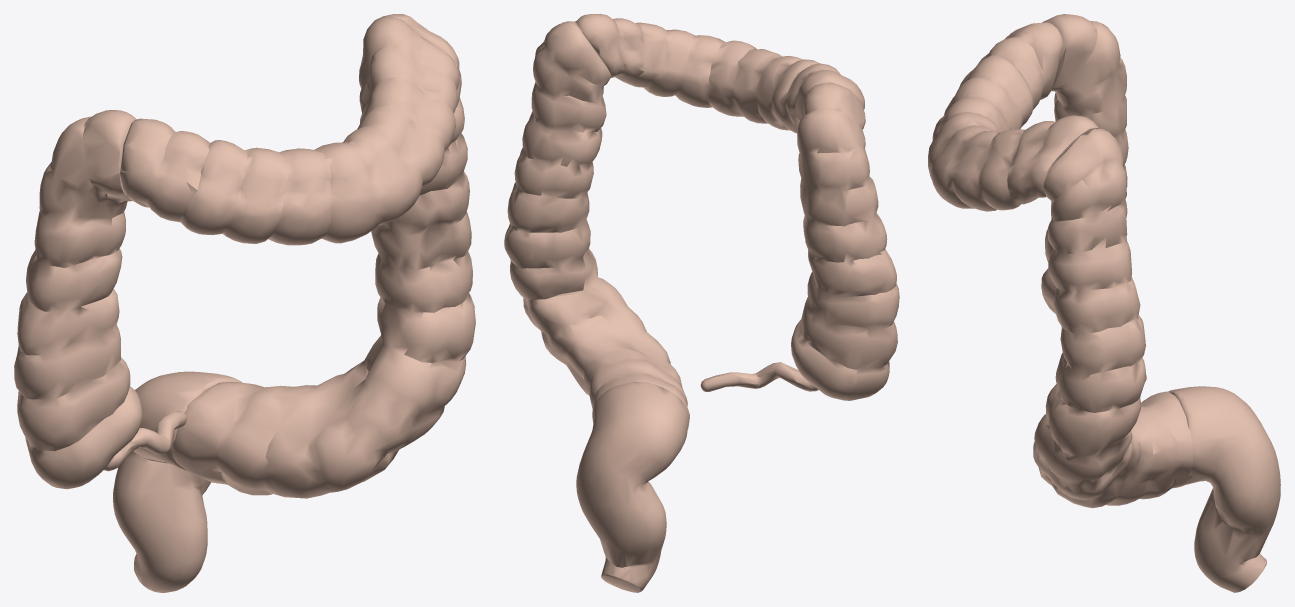
File: yogon.glb
3 renders of one model, left to right at view 1: azimuth 30°, elevation 25°; view 2: azimuth 150°, elevation 25°; view 3: azimuth 270°, elevation 25°, orthographic. The views are drawn at different scales.
Parts seen in each view (by area): view 1: yogon; view 2: yogon; view 3: yogon.
Part boxes in pixels (<box>): yogon: <box>14,14,475,592</box>; yogon: <box>504,14,899,592</box>; yogon: <box>928,14,1280,592</box>.
Size of the model in its own units: 0.2441 by 0.3074 by 0.1856.
